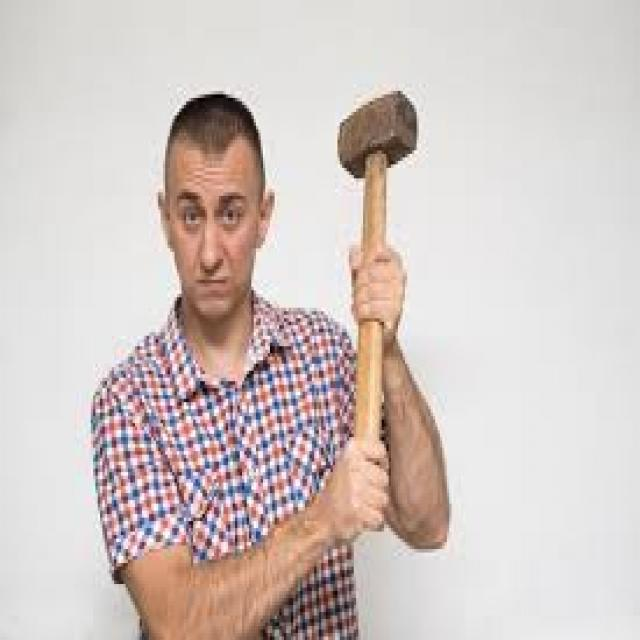hammer: (326, 84, 436, 525)
